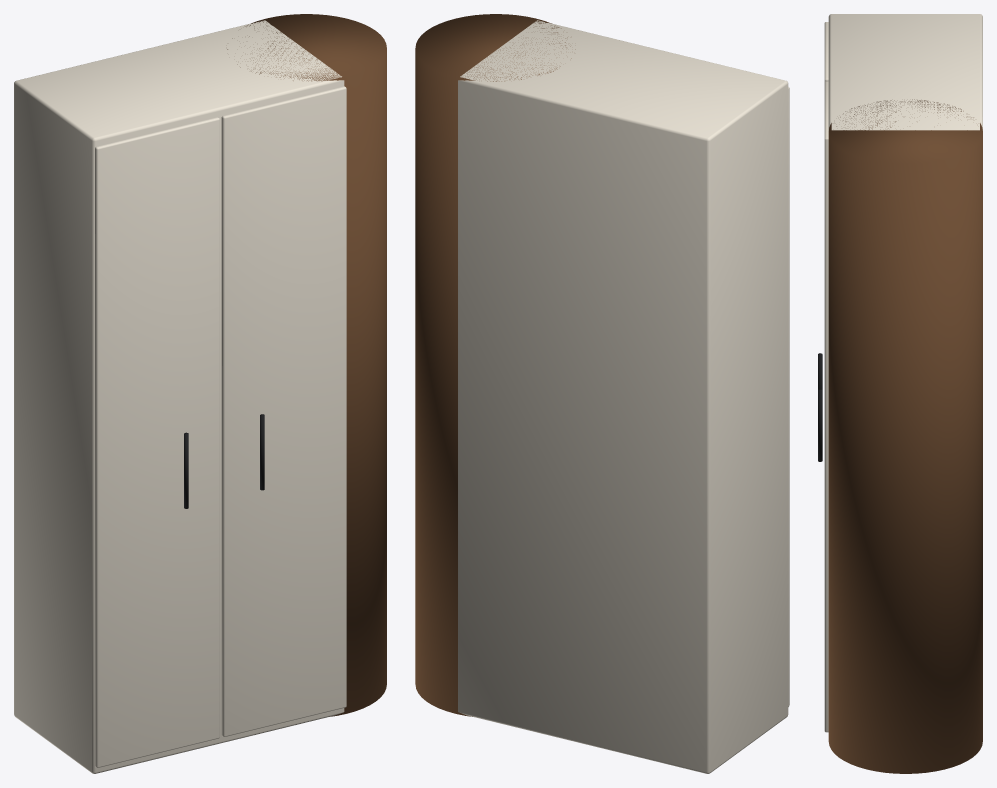
Rendered from bl_wardrobe_100_curved.glb.
3 views of the same model, side by side, from view 1: azimuth 30°, elevation 25°; view 2: azimuth 150°, elevation 25°; view 3: azimuth 270°, elevation 25° (orthographic). The views are drawn at different scales.
Parts seen in each view (by area): view 1: door1, door0, body, curve; view 2: body, curve, door0; view 3: curve, body, door1, handle1.
Boxes of the visible parts, bbox=[...] form: door1: bbox=[221, 86, 346, 736]; door0: bbox=[95, 117, 219, 767]; body: bbox=[14, 20, 344, 773]; curve: bbox=[227, 14, 386, 716]; body: bbox=[458, 20, 788, 773]; curve: bbox=[415, 14, 575, 716]; door0: bbox=[788, 87, 789, 706]; curve: bbox=[828, 99, 982, 773]; body: bbox=[828, 14, 982, 130]; door1: bbox=[824, 81, 828, 732]; handle1: bbox=[818, 389, 822, 461].
Size of the model in its own units: 1.28 by 2.4 by 0.588.
